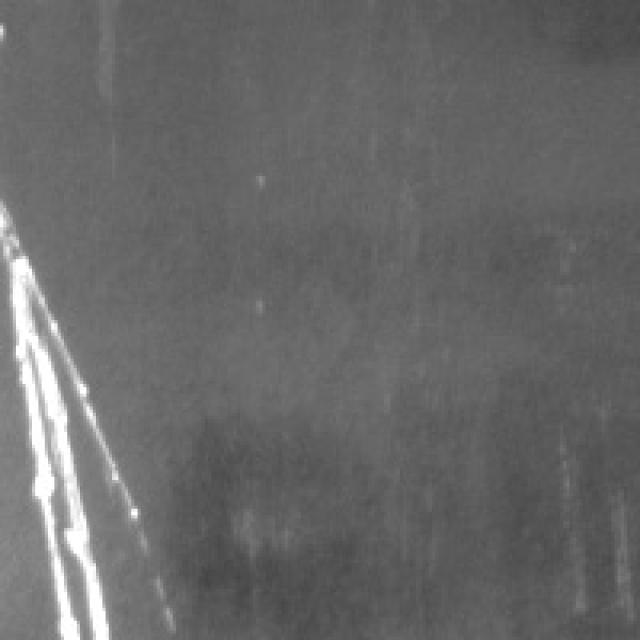scratches: (6, 195, 141, 634)
